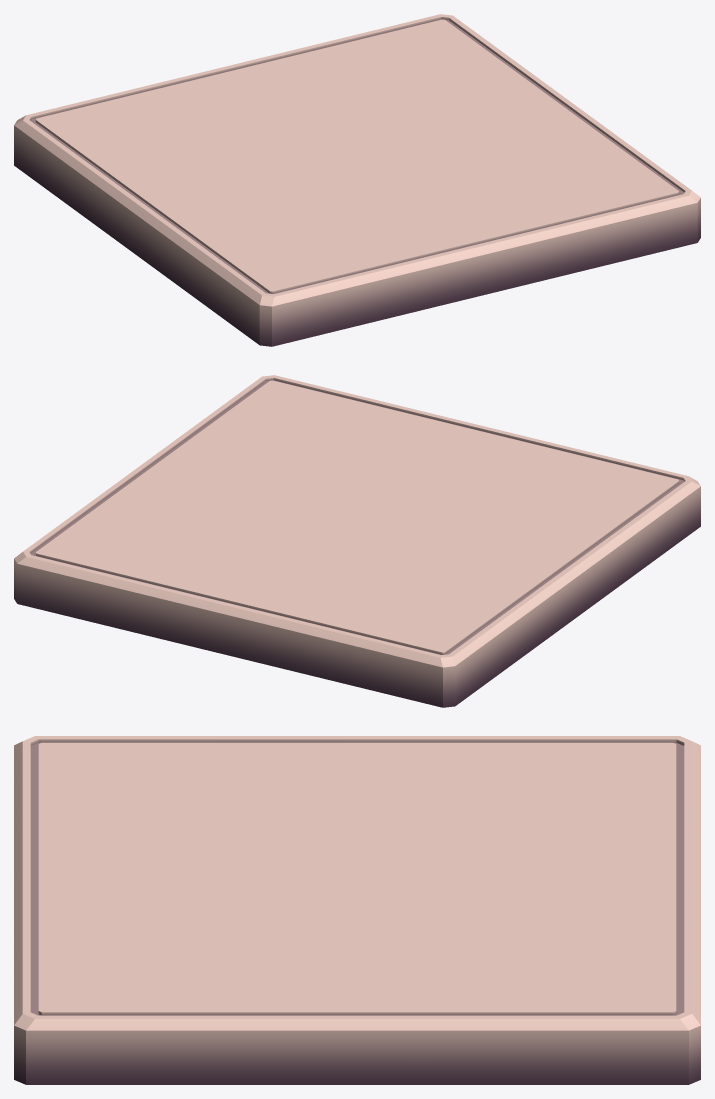
File: arena.fbx
3 views of the same model, one above another, from view 1: azimuth 30°, elevation 25°; view 2: azimuth 150°, elevation 25°; view 3: azimuth 270°, elevation 25° (orthographic). The views are drawn at different scales.
Parts seen in each view (by area): view 1: Cube.003; view 2: Cube.003; view 3: Cube.003.
Boxes of the visible parts, x1,y1,x2,y2 form: Cube.003: (14,14,700,346); Cube.003: (14,375,700,707); Cube.003: (14,736,700,1084).
Bounding box in the file's own units: 2000 × 200 × 2000.
